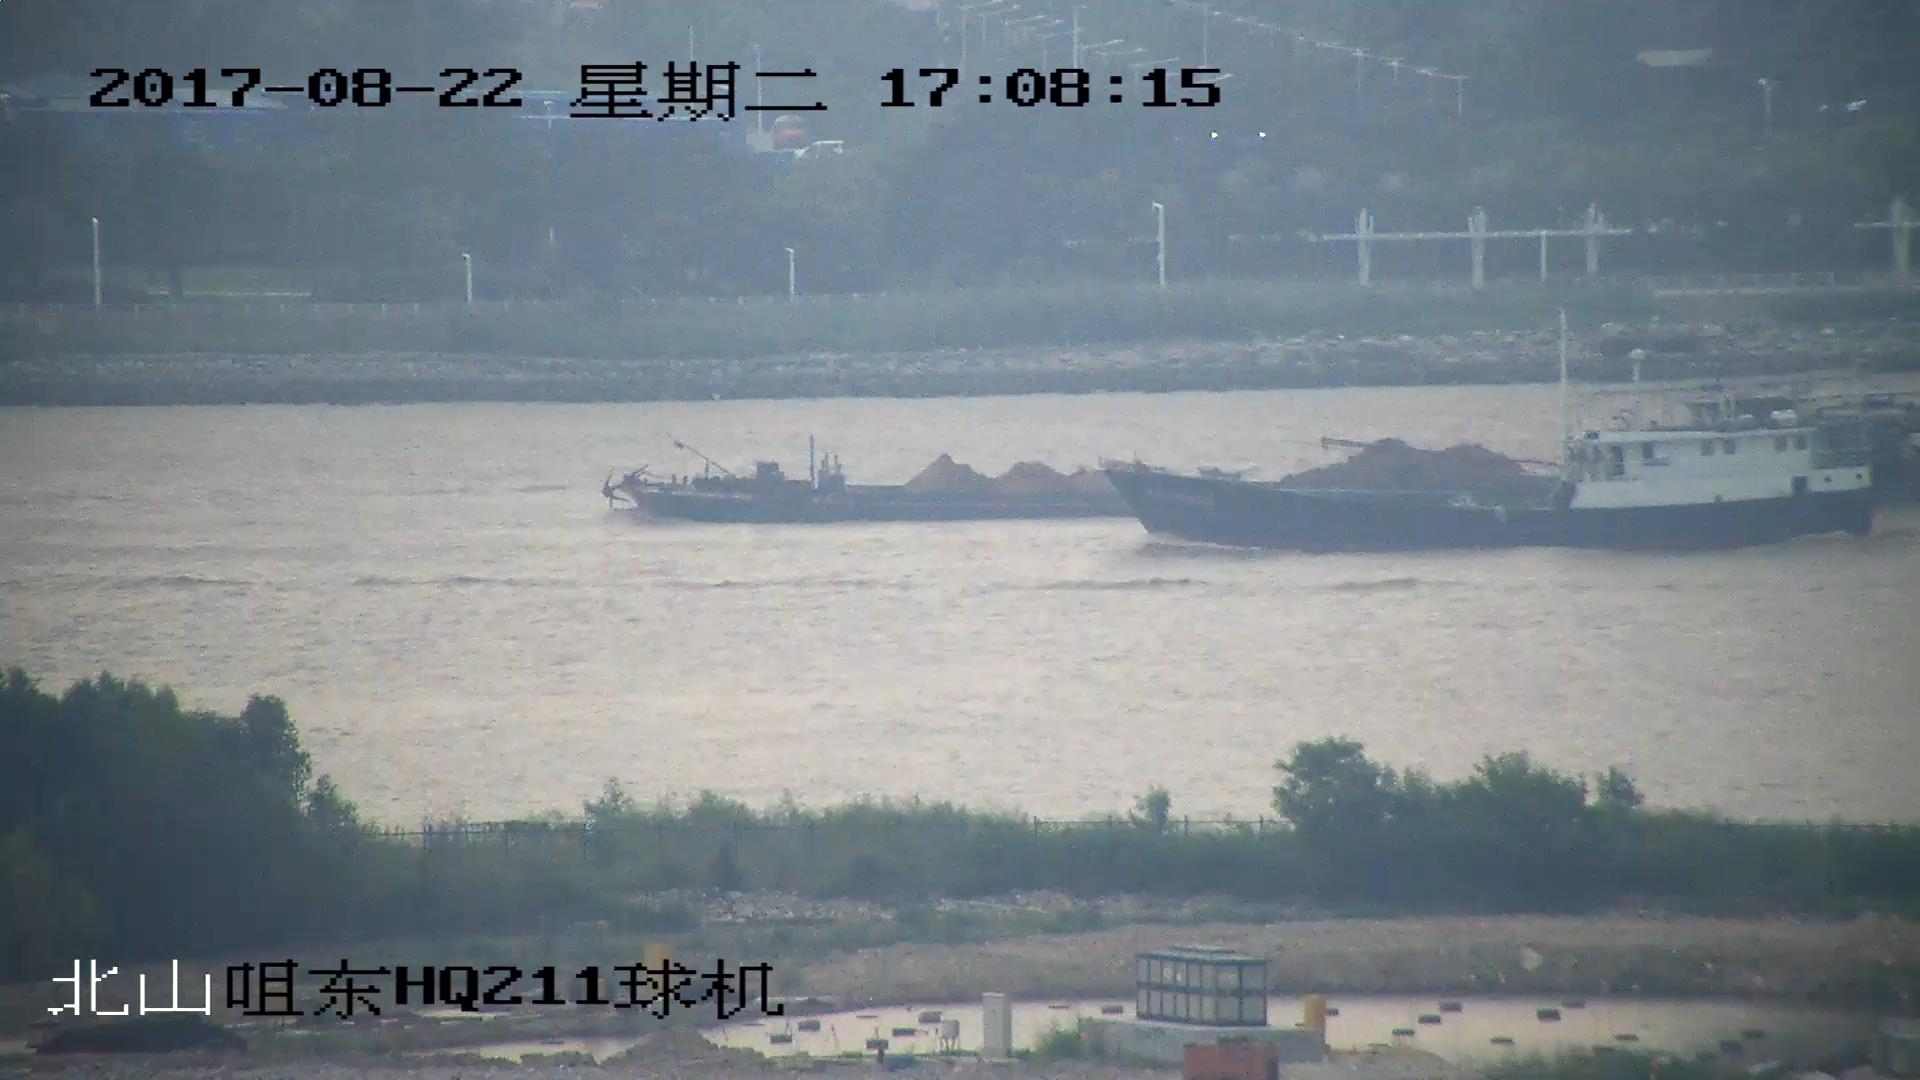fishing boat: (1110, 390, 1880, 546)
ore carrier: (602, 378, 1920, 527)
